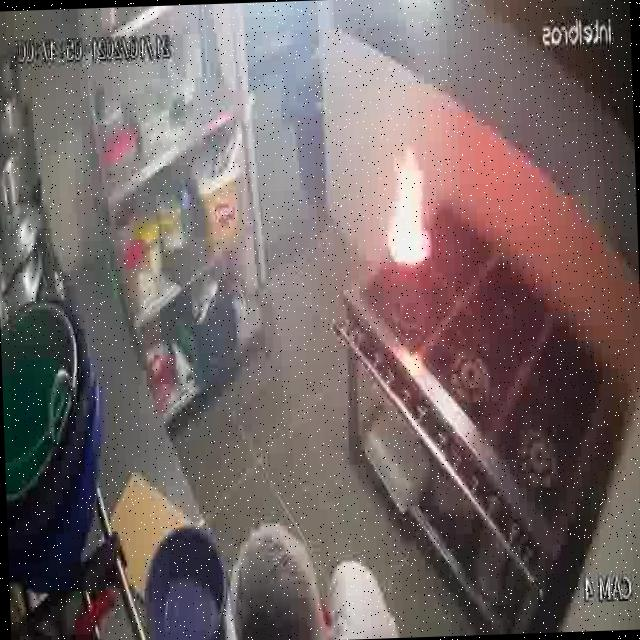fire: (374, 141, 435, 269)
